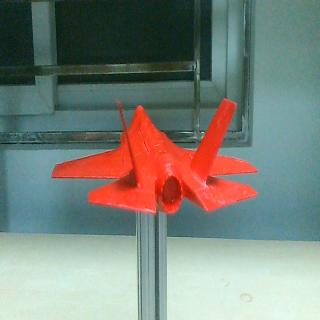Jet: (52, 96, 258, 219)
